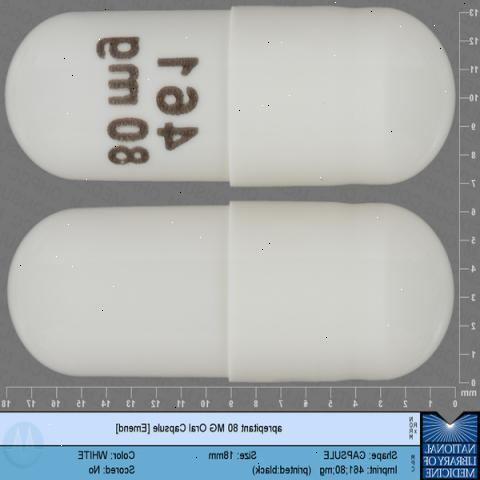Pill: (4, 195, 462, 400), (2, 6, 462, 195)
